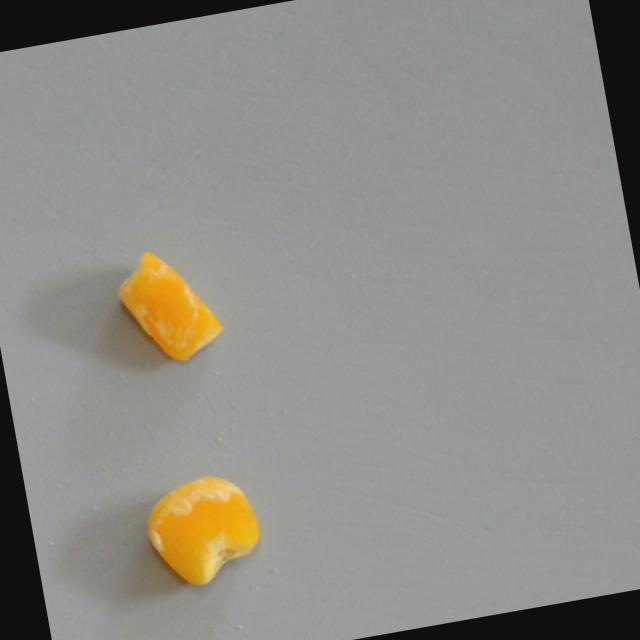dañado: (133, 465, 269, 597), (106, 234, 230, 375)
